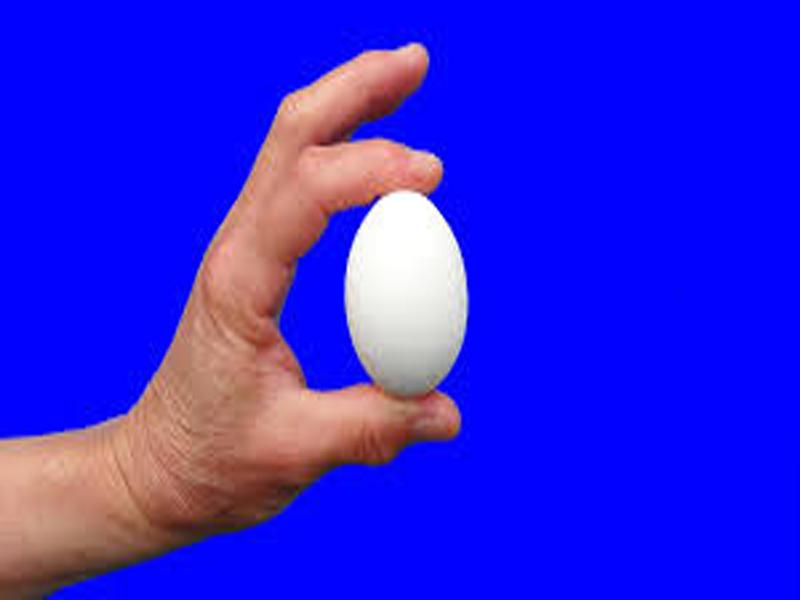Eggs: (344, 186, 467, 396)
